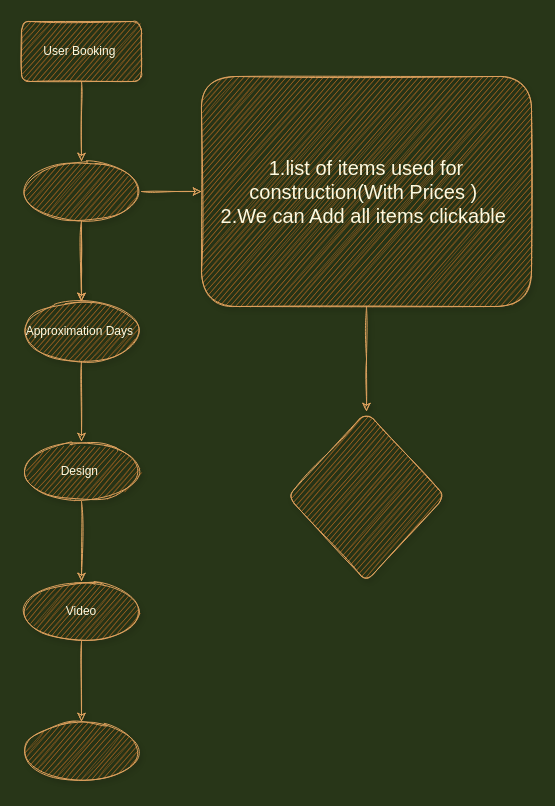
The diagram is 555 pixels wide and 806 high, and some of its shapes have lost their labels. The centre of each missing label's shape, as x and y in pixels:
Finace Tab: the point at 82,192
He will be able to replace the time: the point at 367,497
Support: the point at 82,752
